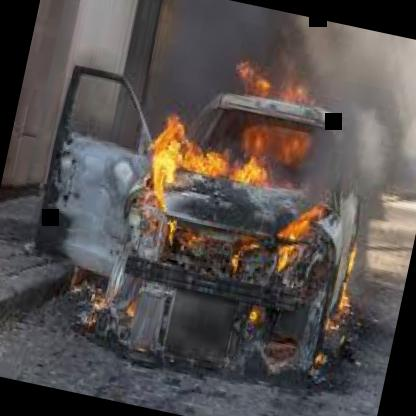fire: (89, 26, 410, 392)
